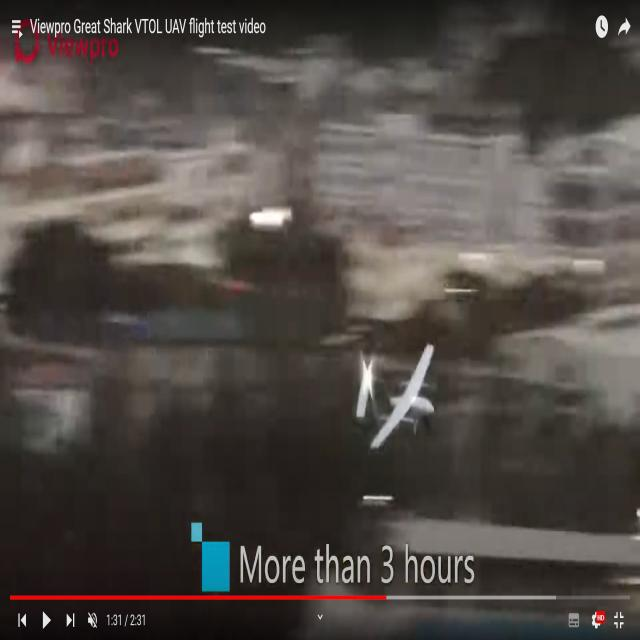iha: (389, 375, 405, 419)
